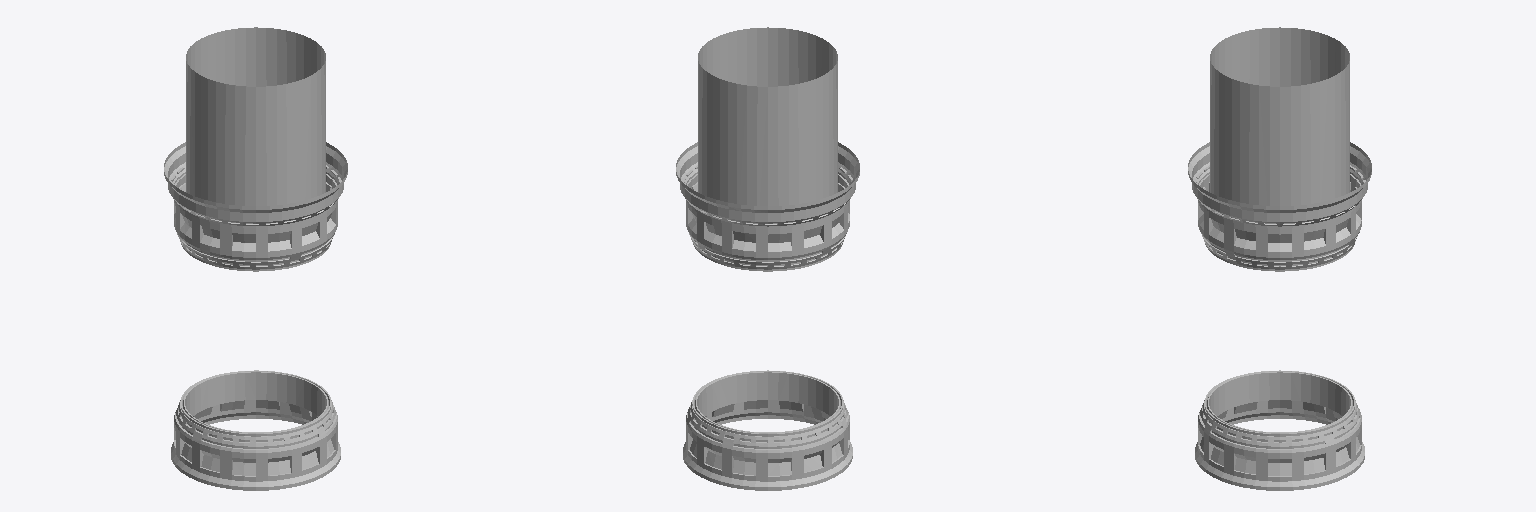
Rendered from bacta.obj.
3 views of the same model, side by side, from view 1: azimuth 30°, elevation 25°; view 2: azimuth 150°, elevation 25°; view 3: azimuth 270°, elevation 25° (orthographic).
Parts seen in each view (by area): view 1: Mesh_0027.rip; view 2: Mesh_0027.rip; view 3: Mesh_0027.rip.
Part boxes in pixels (x1,y1,x2,y2): Mesh_0027.rip: (164, 27, 347, 490); Mesh_0027.rip: (676, 27, 859, 490); Mesh_0027.rip: (1188, 27, 1371, 490).
Size of the model in its own units: 1.86 by 4.43 by 1.85.